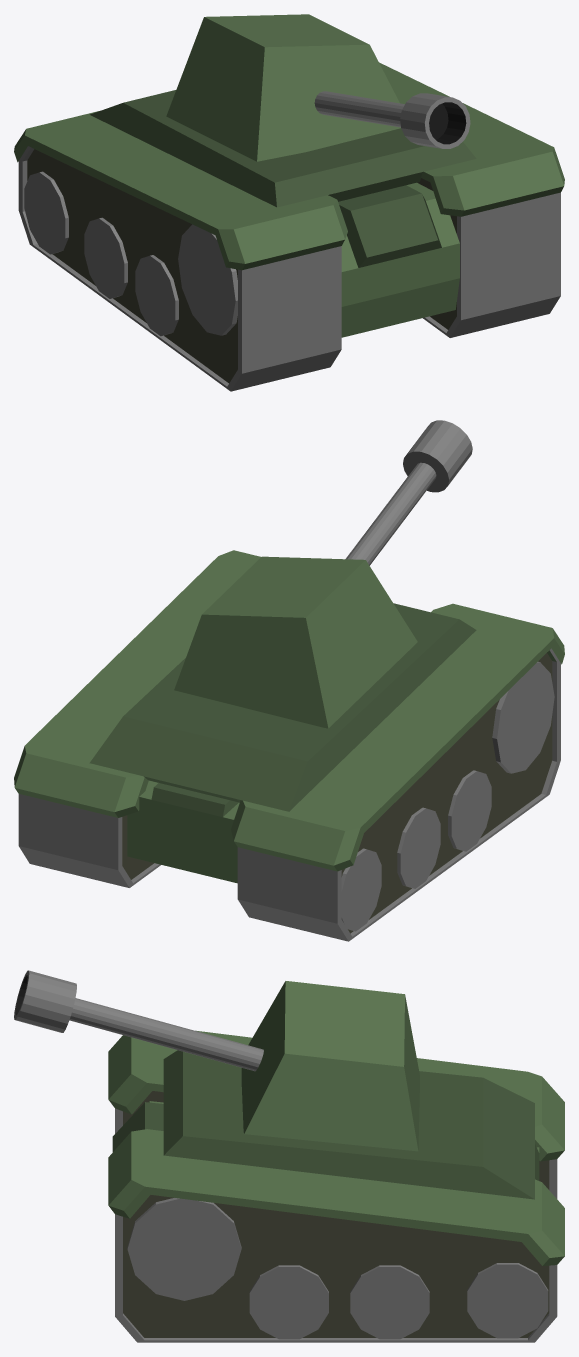
File: TANK-FBX.fbx
3 renders of one model, top to bottom at view 1: azimuth 30°, elevation 25°; view 2: azimuth 150°, elevation 25°; view 3: azimuth 270°, elevation 25°, orthographic.
Parts seen in each view (by area): view 1: Куб.001, Куб.003; view 2: Куб.001, Куб.003; view 3: Куб.001, Куб.003.
Boxes of the visible parts, box(x1,y1,x2,y2) form: Куб.001: box(14, 62, 564, 391); Куб.003: box(166, 14, 470, 161); Куб.001: box(14, 550, 564, 941); Куб.003: box(174, 420, 472, 728); Куб.001: box(108, 1030, 564, 1342); Куб.003: box(14, 970, 419, 1151).
Bounding box in the file's own units: 673 × 565 × 966.
